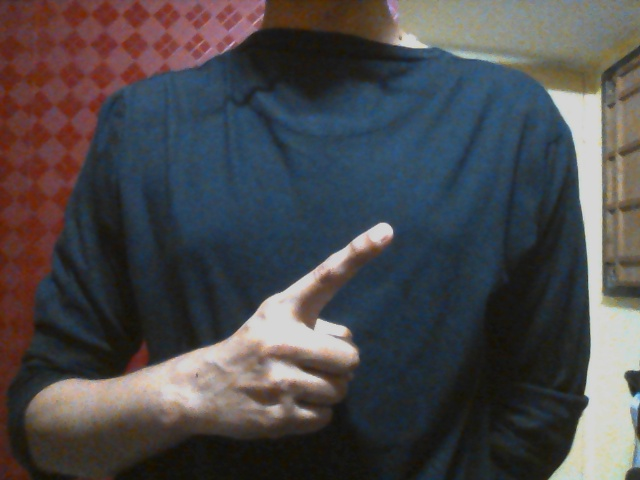I: (200, 220, 396, 441)
